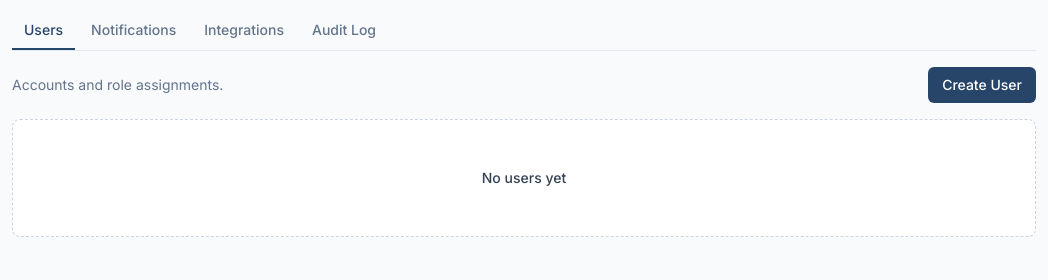
Test: AdministrationPage › switches panels when a different tab is clicked
The image size is (1048, 280).
Expected: the text "No users yet" is shown, [482,168,566,188]
Click the tab "Audit Log" at (344, 31), box [300,12,388,50]
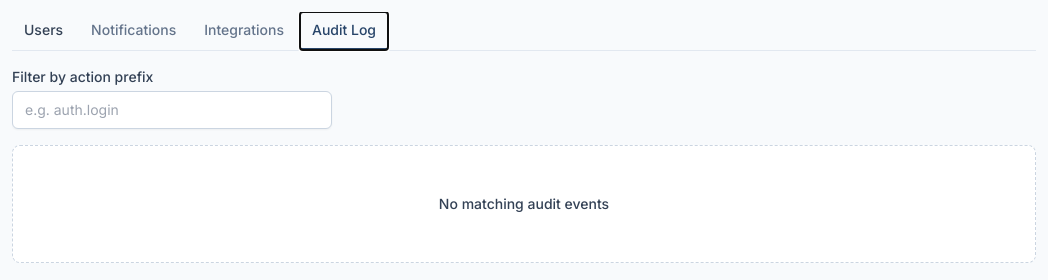
Now the text "No matching audit events" is shown, box [439,194,609,214]
Now the text "No users yet" is gone
